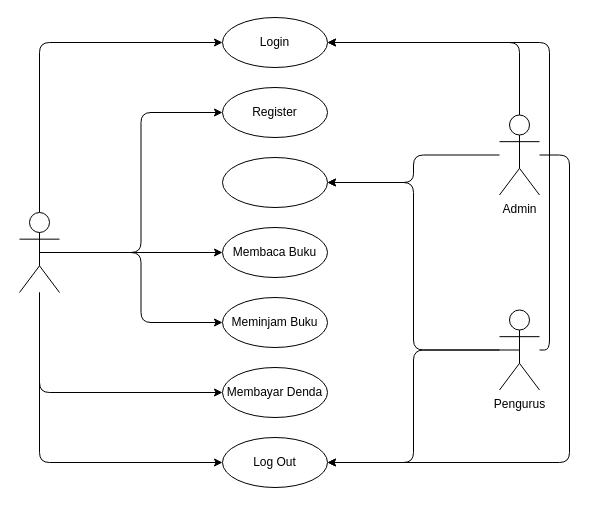
Image size: 595x505. Some labels were removed from this diagram. Here are the shapes that lost their labels. From the top down, the centre of each, then its label:
At (x=275, y=182): "Mengecek Data Buku".
At (x=39, y=252): "Anggota".
